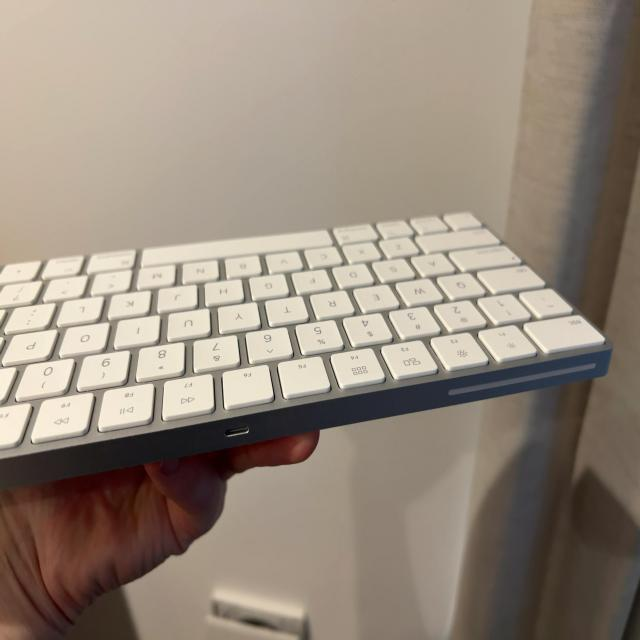keyboard: (7, 214, 615, 493)
